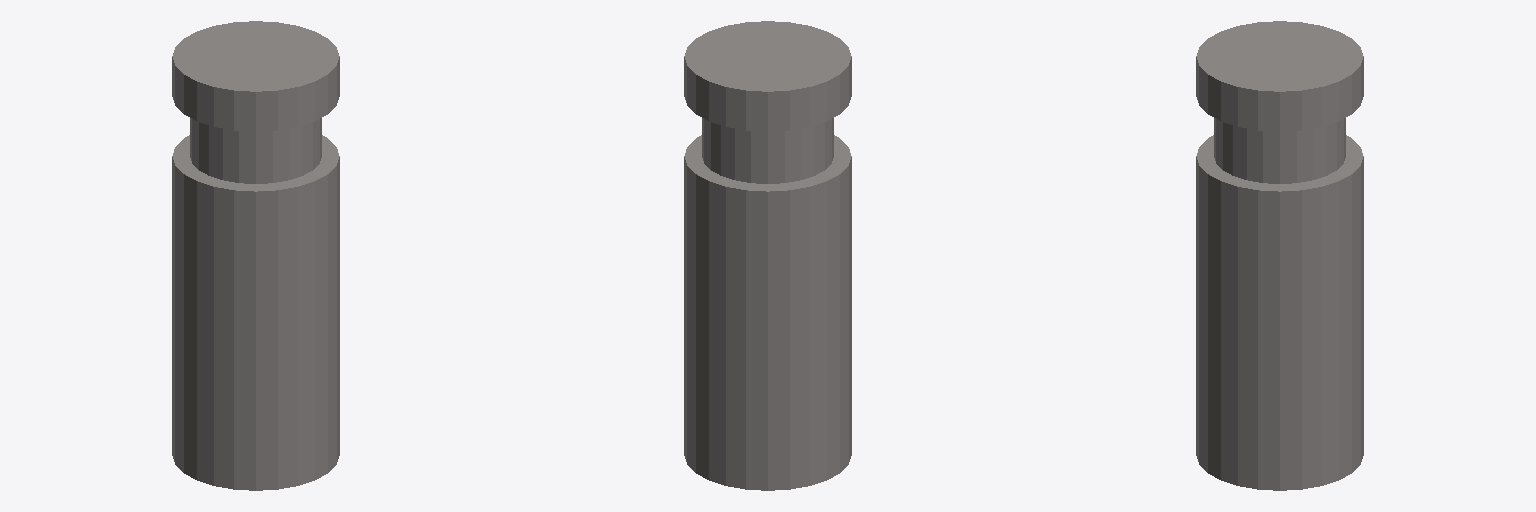
File: Bollard.obj
3 renders of one model, left to right at view 1: azimuth 30°, elevation 25°; view 2: azimuth 150°, elevation 25°; view 3: azimuth 270°, elevation 25°, orthographic.
Parts seen in each view (by area): view 1: Mesh1 Model; view 2: Mesh1 Model; view 3: Mesh1 Model.
Part boxes in pixels (left/top/right/bottom): Mesh1 Model: left=172, top=21, right=339, bottom=490; Mesh1 Model: left=684, top=21, right=851, bottom=490; Mesh1 Model: left=1196, top=21, right=1363, bottom=490.
Size of the model in its own units: 0.38 by 1 by 0.38.